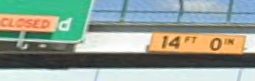0: (208, 36, 223, 52)
1: (159, 34, 170, 51)
4: (168, 34, 181, 51)
overheadsign: (147, 30, 246, 57)
